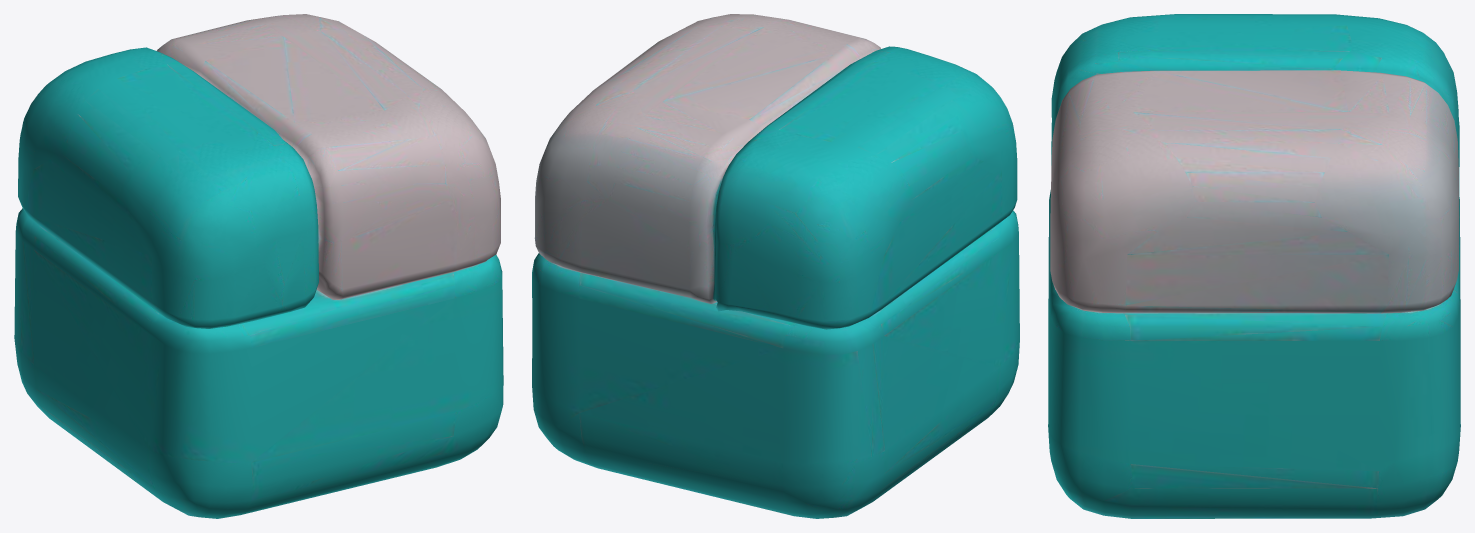
Rendered from env_wall_bumper.glb.
The picture shows the model from 3 angles, left to right: view 1: azimuth 30°, elevation 25°; view 2: azimuth 150°, elevation 25°; view 3: azimuth 270°, elevation 25°; orthographic projection. The views are drawn at different scales.
Parts seen in each view (by area): view 1: Mesh_0; view 2: Mesh_0; view 3: Mesh_0.
Part boxes in pixels (x1=…): Mesh_0: x1=14, y1=14, x2=503, y2=518; Mesh_0: x1=532, y1=14, x2=1019, y2=518; Mesh_0: x1=1048, y1=14, x2=1460, y2=518.
Size of the model in its own units: 1 by 1 by 1.
1 material, 1 textured.
